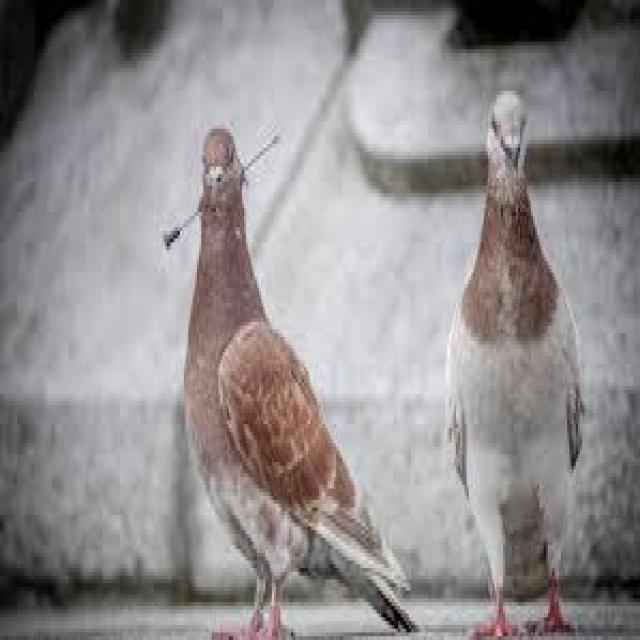pigeon: (166, 93, 406, 640), (438, 69, 611, 632)
